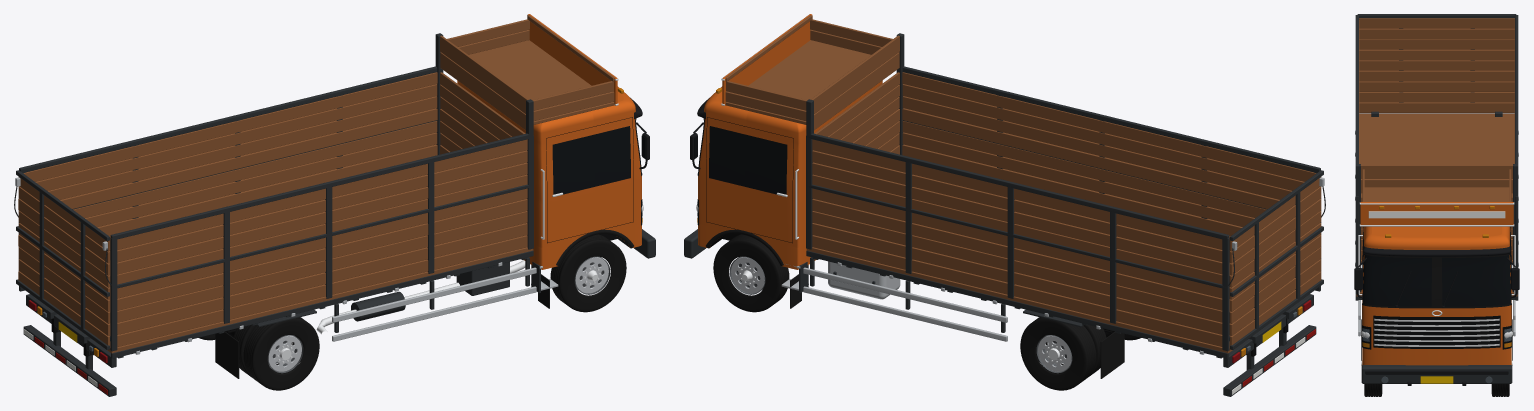
The model's file is truck.glb.
3 renders of one model, left to right at view 1: azimuth 30°, elevation 25°; view 2: azimuth 150°, elevation 25°; view 3: azimuth 270°, elevation 25°, orthographic. The views are drawn at different scales.
Parts seen in each view (by area): view 1: wood, steel, paint, glass, wheel_rr_tyre, wheel_fr_tyre, alu, rubber, chrome, wheel_fr_rim, wheel_rr_rim; view 2: wood, steel, paint, alu, glass, wheel_rl_tyre, wheel_fl_tyre, rubber, wheel_fl_rim, wheel_rl_rim; view 3: wood, paint, glass, steel, trim_gloss, chrome, trim, rubber, paint_stripe, alu, plate_front, wheel_fl_tyre (+3 smaller).
Boxes of the visible parts, x1,y1,x2,y2 form: wood: [18, 15, 614, 353]; steel: [16, 33, 655, 396]; paint: [457, 14, 641, 269]; glass: [552, 120, 645, 194]; wheel_rr_tyre: [233, 317, 319, 390]; wheel_fr_tyre: [550, 234, 626, 312]; alu: [15, 177, 558, 354]; rubber: [215, 119, 642, 378]; chrome: [316, 14, 643, 334]; wheel_fr_rim: [575, 257, 608, 293]; wheel_rr_rim: [268, 335, 301, 371]; wood: [725, 15, 1321, 353]; steel: [684, 33, 1323, 396]; paint: [698, 14, 882, 269]; alu: [781, 177, 1324, 354]; glass: [694, 120, 787, 194]; wheel_rl_tyre: [1020, 317, 1106, 390]; wheel_fl_tyre: [713, 234, 789, 312]; rubber: [697, 118, 1124, 378]; wheel_fl_rim: [731, 257, 764, 293]; wheel_rl_rim: [1038, 335, 1071, 371]; wood: [1356, 18, 1517, 296]; paint: [1360, 202, 1513, 365]; glass: [1362, 227, 1511, 306]; steel: [1355, 14, 1518, 383]; trim_gloss: [1362, 315, 1511, 349]; chrome: [1358, 202, 1515, 346]; trim: [1354, 246, 1519, 385]; rubber: [1361, 254, 1512, 360]; paint_stripe: [1368, 211, 1505, 218]; alu: [1355, 130, 1518, 336]; plate_front: [1420, 376, 1453, 383]; wheel_fl_tyre: [1491, 384, 1509, 396].
Bounding box in the file's own units: 8.6 × 3.4 × 2.54.
